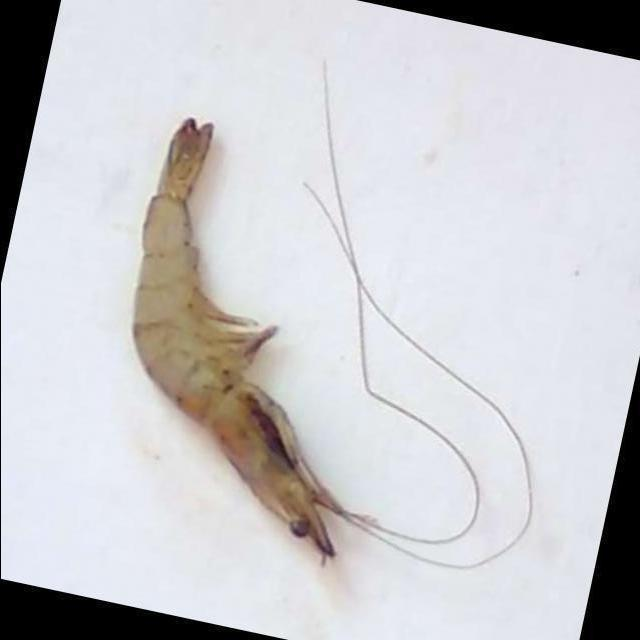shrimp: (133, 119, 335, 559)
